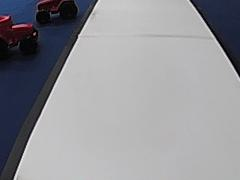Tracktor: (0, 12, 40, 53), (34, 0, 79, 25)
